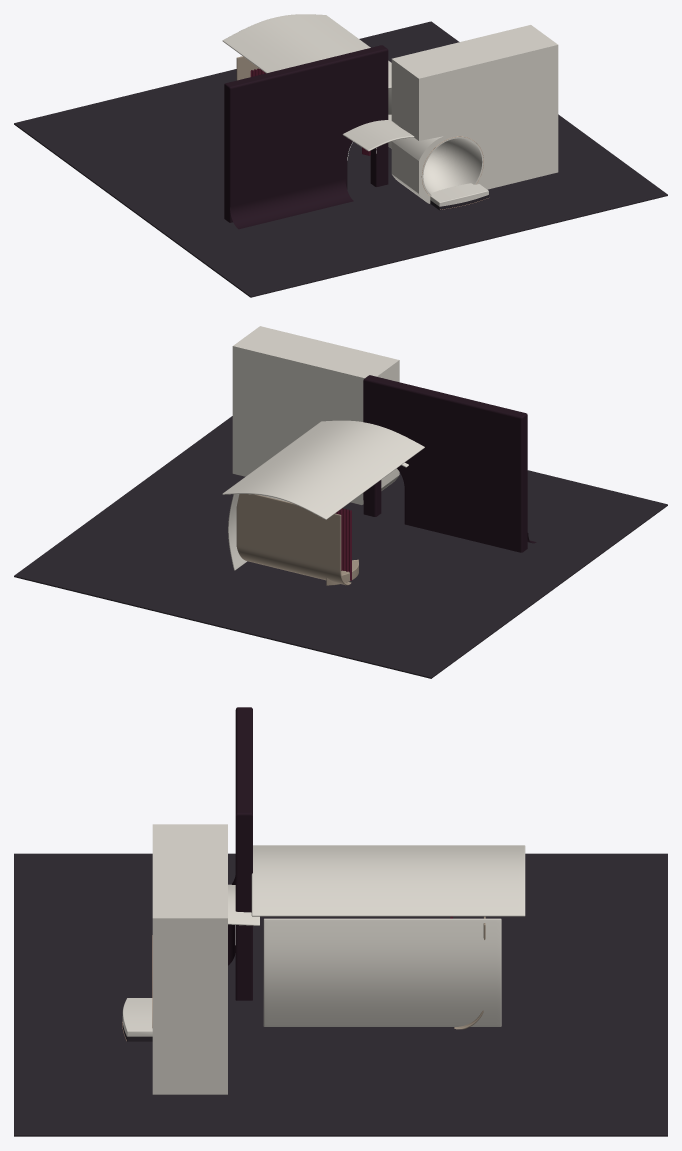
Rendered from alcove.glb.
3 views of the same model, one above another, from view 1: azimuth 30°, elevation 25°; view 2: azimuth 150°, elevation 25°; view 3: azimuth 270°, elevation 25° (orthographic). The views are drawn at different scales.
Visible parts, largest first — view 1: Architecture_Static, Alcove_Ivory_Solid, Continuous_Entrance_Canopy, Alcove_Curved_Waist_Lip; view 2: Architecture_Static, Alcove_Ivory_Solid; view 3: Architecture_Static, Alcove_Ivory_Solid, Alcove_Curved_Waist_Lip, Continuous_Entrance_Canopy.
Boxes of the visible parts, x1,y1,x2,y2 form: Architecture_Static: (14,14,667,297); Alcove_Ivory_Solid: (391,25,558,203); Continuous_Entrance_Canopy: (342,114,414,151); Alcove_Curved_Waist_Lip: (430,183,488,210); Architecture_Static: (14,375,667,678); Alcove_Ivory_Solid: (232,326,399,504); Architecture_Static: (14,707,667,1136); Alcove_Ivory_Solid: (152,824,227,1094); Alcove_Curved_Waist_Lip: (122,998,152,1041); Continuous_Entrance_Canopy: (228,884,259,925).
Size of the model in its own units: 56 by 18.62 by 55.
